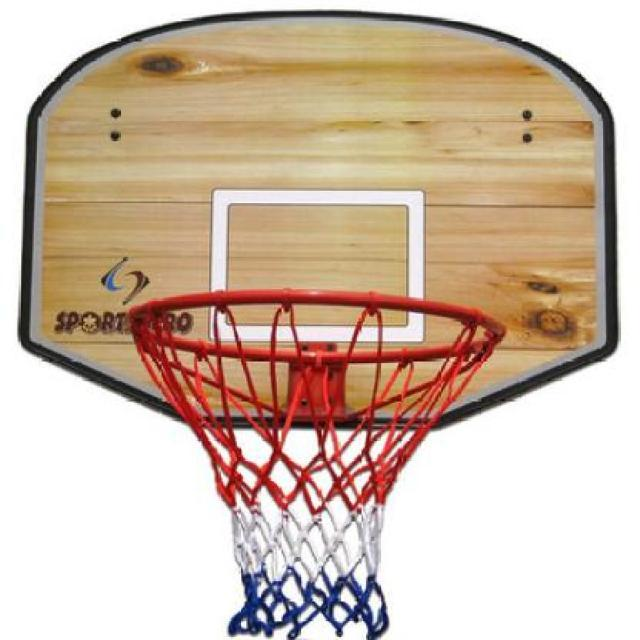rim: (123, 287, 504, 640)
